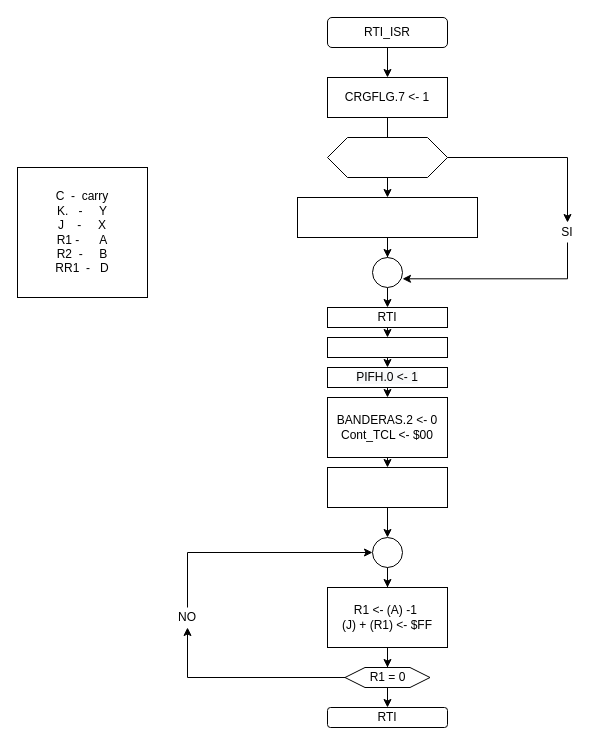
Image size: 605x745. Some labels were removed from this diagram. The shapes that lost their labels are listed below. From the top down, each one's centre as x and y in pixels, then its label:
At (x=387, y=157): "Cont_Reb = 0".
At (x=387, y=217): "Cont_Reb <- Cont_Reb -1".
At (x=387, y=347): "PHO_ISR".
At (x=387, y=487): "X <- Num_Array A <- G".
